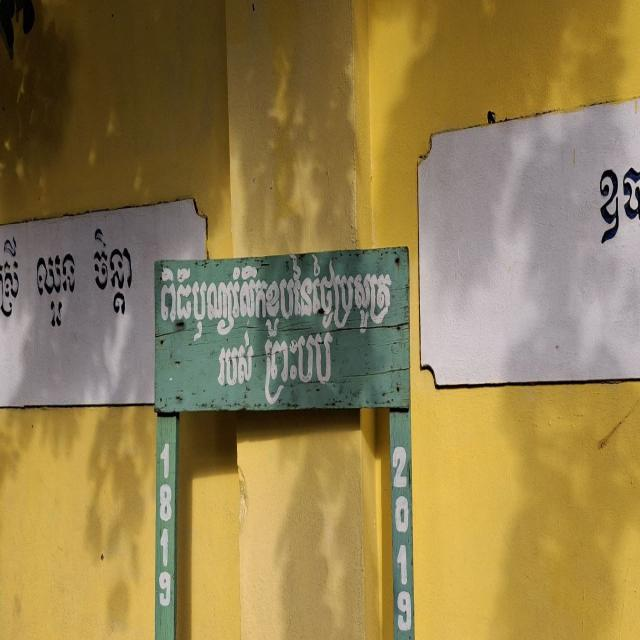1: (192, 324, 342, 410)
2: (0, 212, 142, 353)
Yolov11_80vkh: (155, 251, 396, 346)
